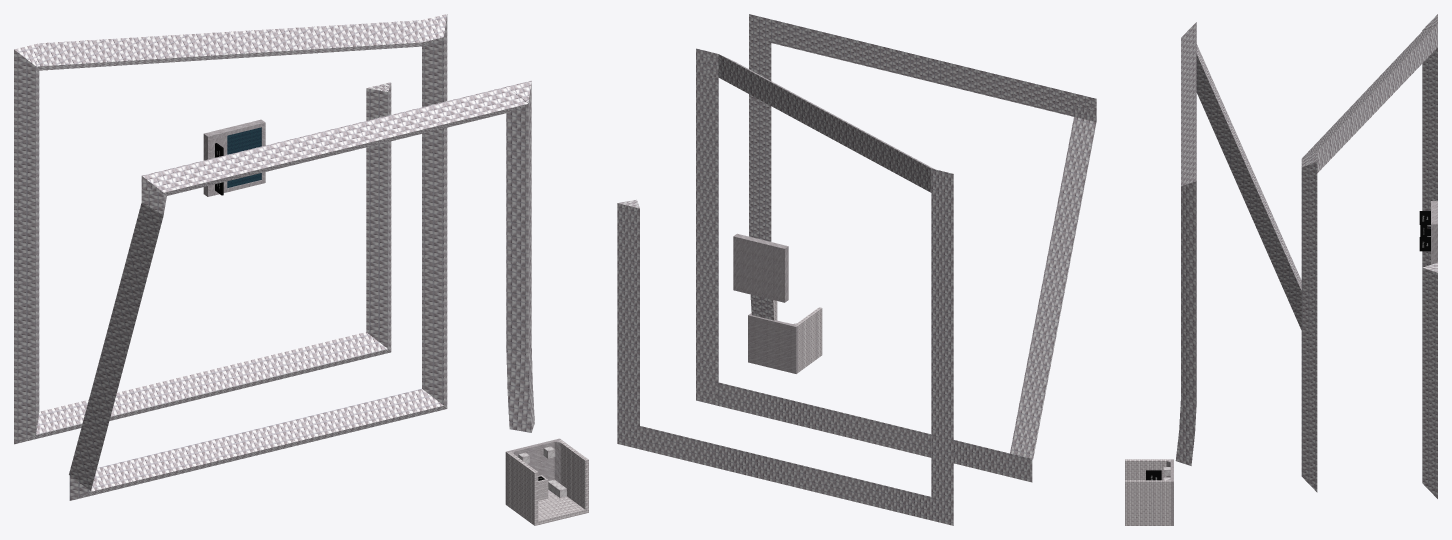
Rendered from one_wave.obj.
3 views of the same model, side by side, from view 1: azimuth 30°, elevation 25°; view 2: azimuth 150°, elevation 25°; view 3: azimuth 270°, elevation 25° (orthographic). The views are drawn at different scales.
Visible parts, largest first — view 1: BSP_Object.model_0, BSP_Object.model_1; view 2: BSP_Object.model_0; view 3: BSP_Object.model_0.
Boxes of the visible parts, x1,y1,x2,y2 form: BSP_Object.model_0: [14, 14, 588, 525]; BSP_Object.model_1: [227, 127, 261, 187]; BSP_Object.model_0: [617, 14, 1096, 525]; BSP_Object.model_0: [1125, 14, 1437, 525].
Bounding box in the file's own units: 7184 × 7136 × 5728.
24 materials, 24 textured.
